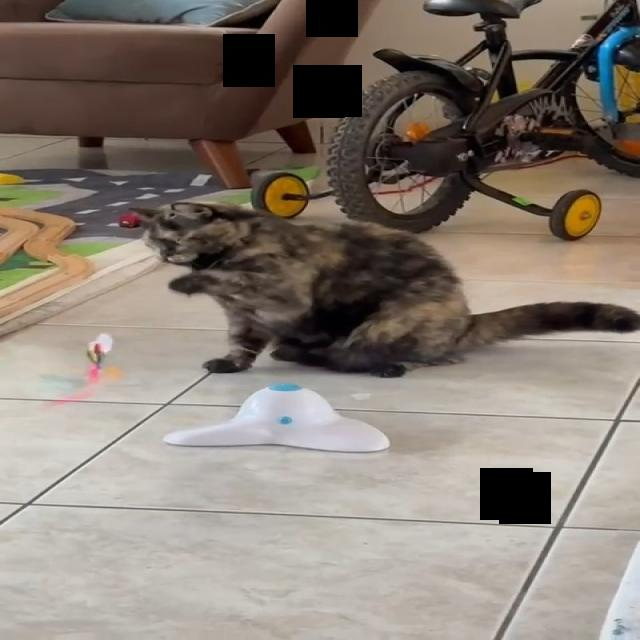authorized: (126, 200, 638, 378)
